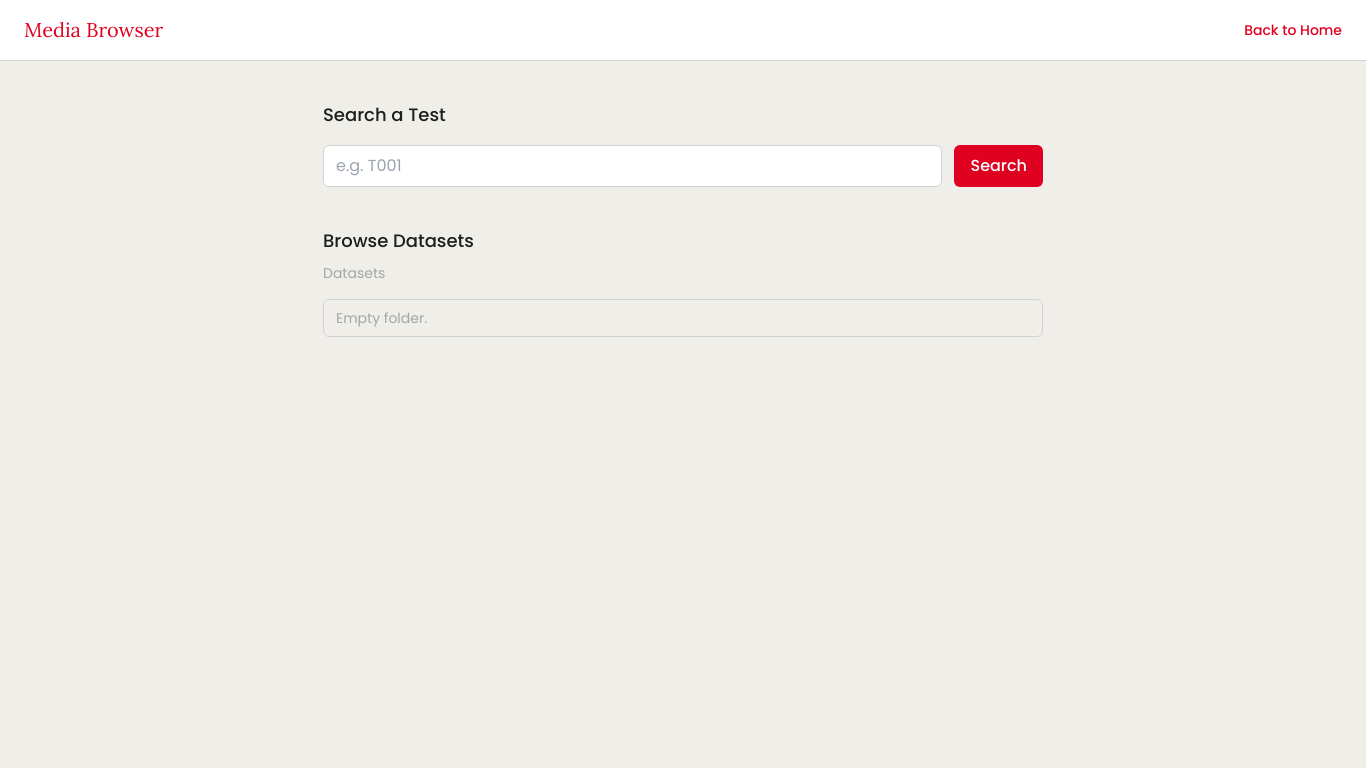
MediaBrowserView › lists a Test's Cuts with parsed Camera/Condition/Phase and metadata
The width and height of the screenshot is (1366, 768).
Type "T001" into the field with id "test-search".
click(633, 166); type("T001")  # box [323,145,942,187]
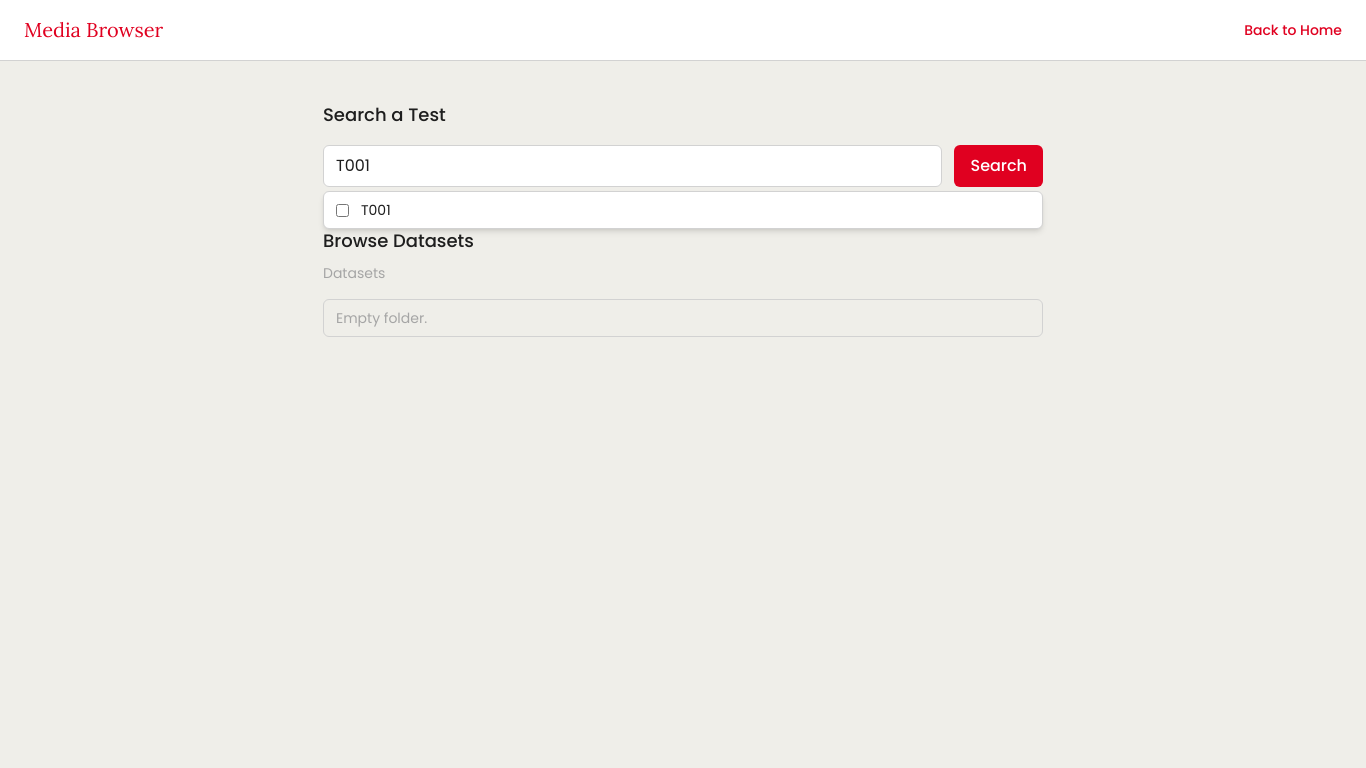
Click the button with test id "test-suggestion".
click(376, 210)  # box [349,192,1042,228]
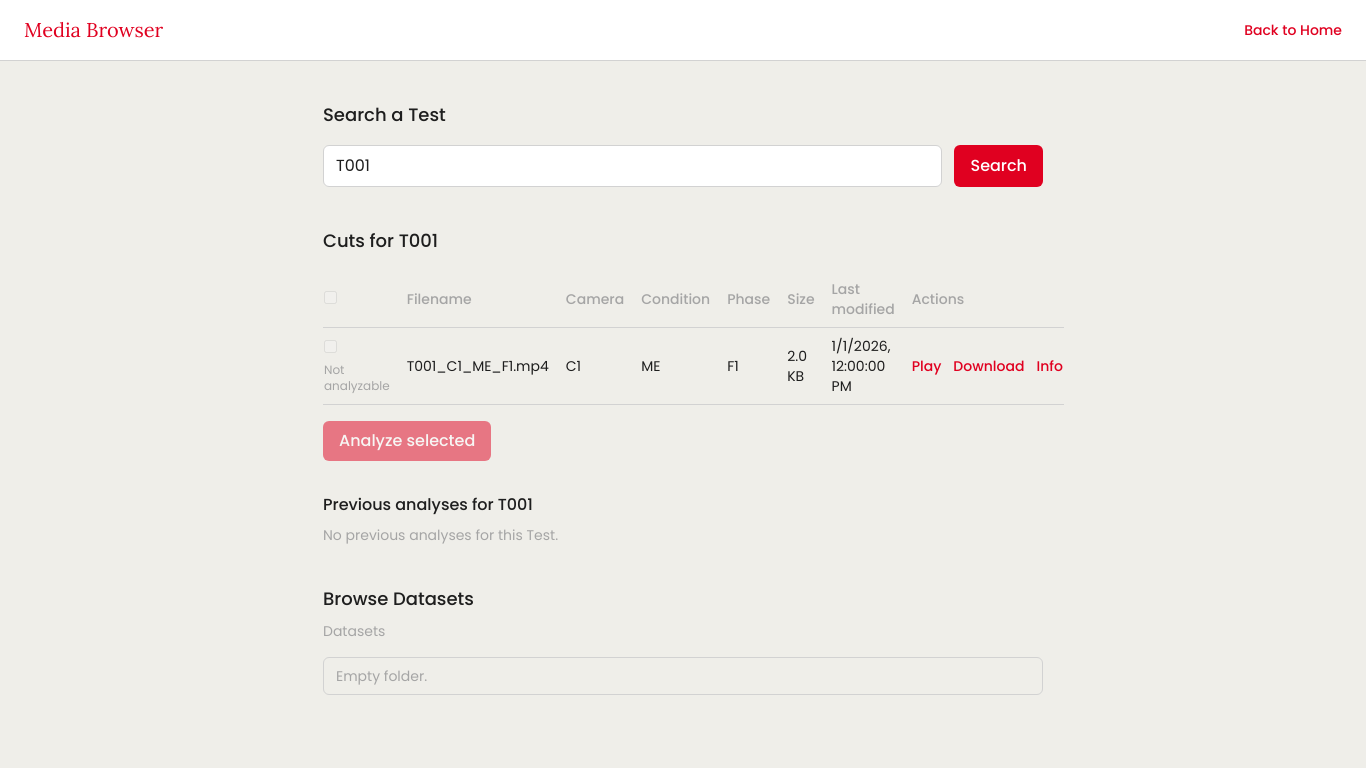
Expected: the text "T001_C1_ME_F1.mp4" is shown, [406,328,565,404]
Expected: the text "C1" is shown, [407,356,549,376]
Expected: the text "F1" is shown, [407,356,549,376]
